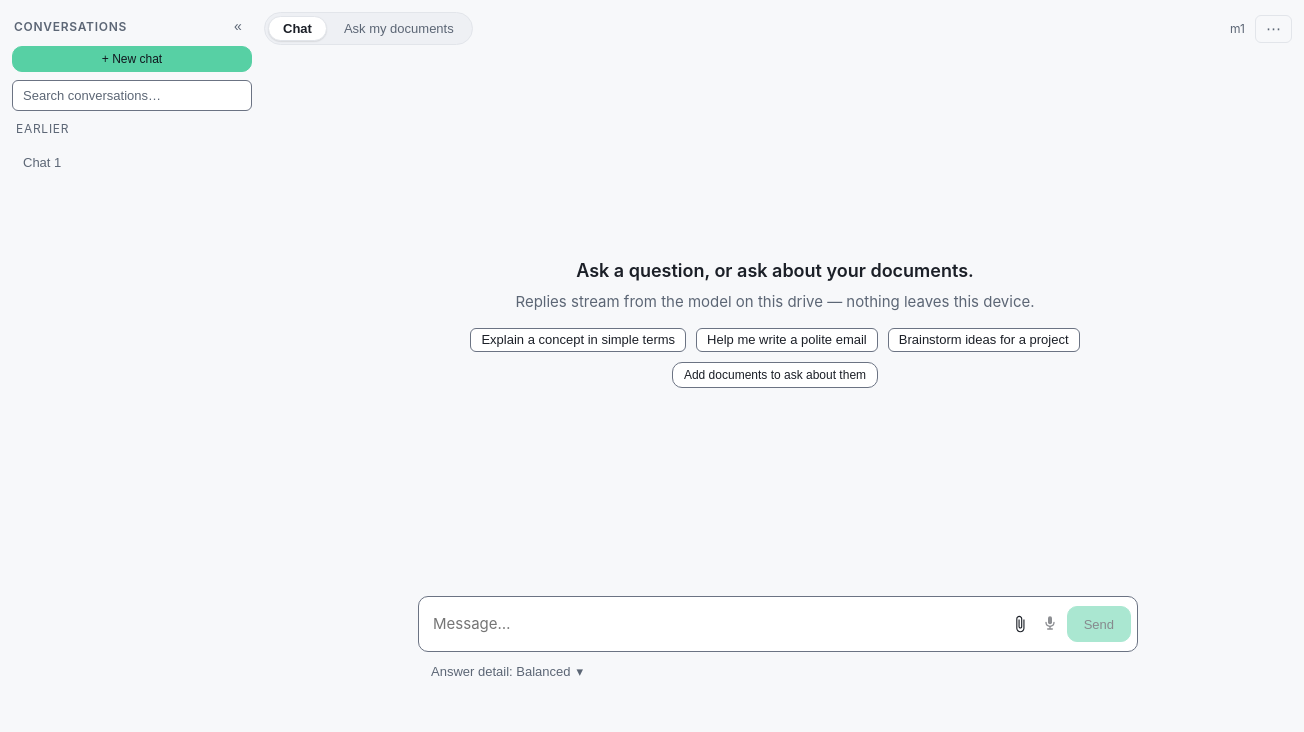
Test: ChatScreen — draft restore on pre-persist send failure (CR-1) › does NOT restore when the failed send still persisted the user turn (no duplicate)
This screenshot has width=1304, height=732.
Click the button with class "chat-conv".
click(116, 162)  # box [12,142,221,182]
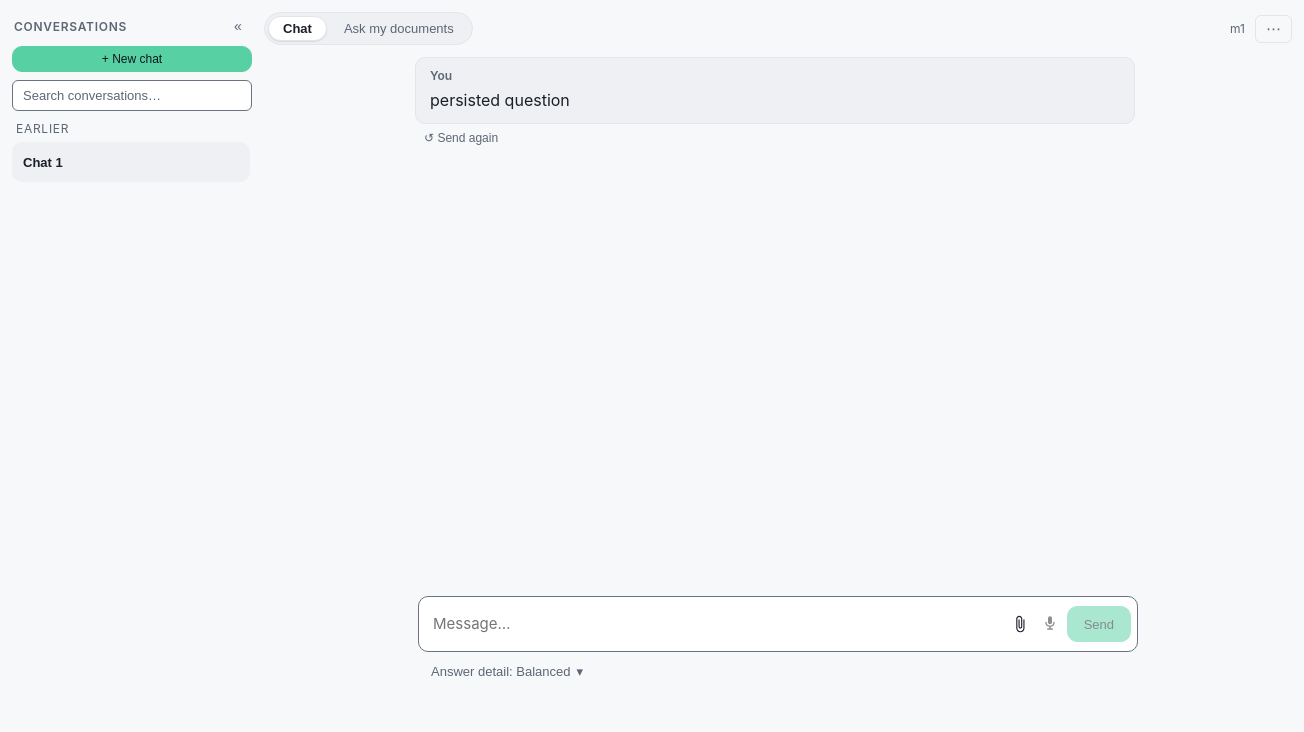
Type "persisted question" into the text box with placeholder "Message…".
click(713, 624); type("persisted question")  # box [423,603,1003,645]
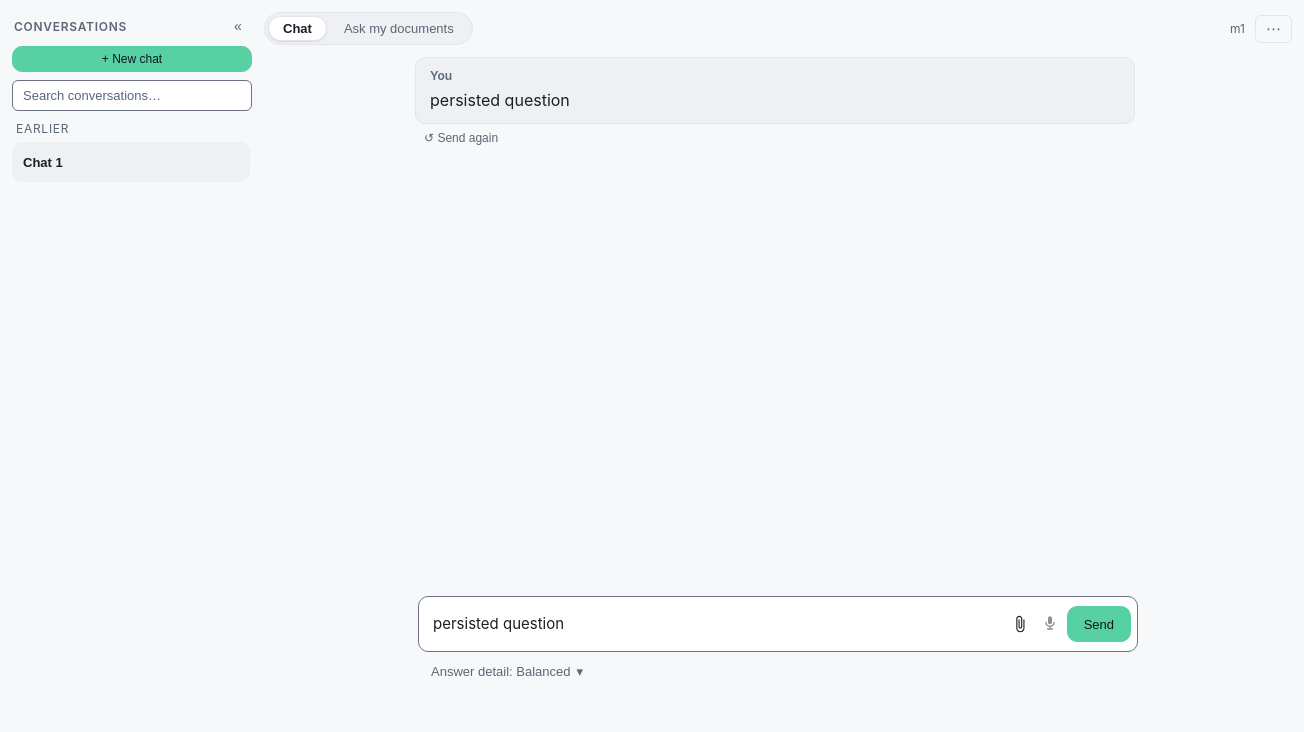
Click the button "Send".
click(1099, 624)  # box [1067,606,1131,642]
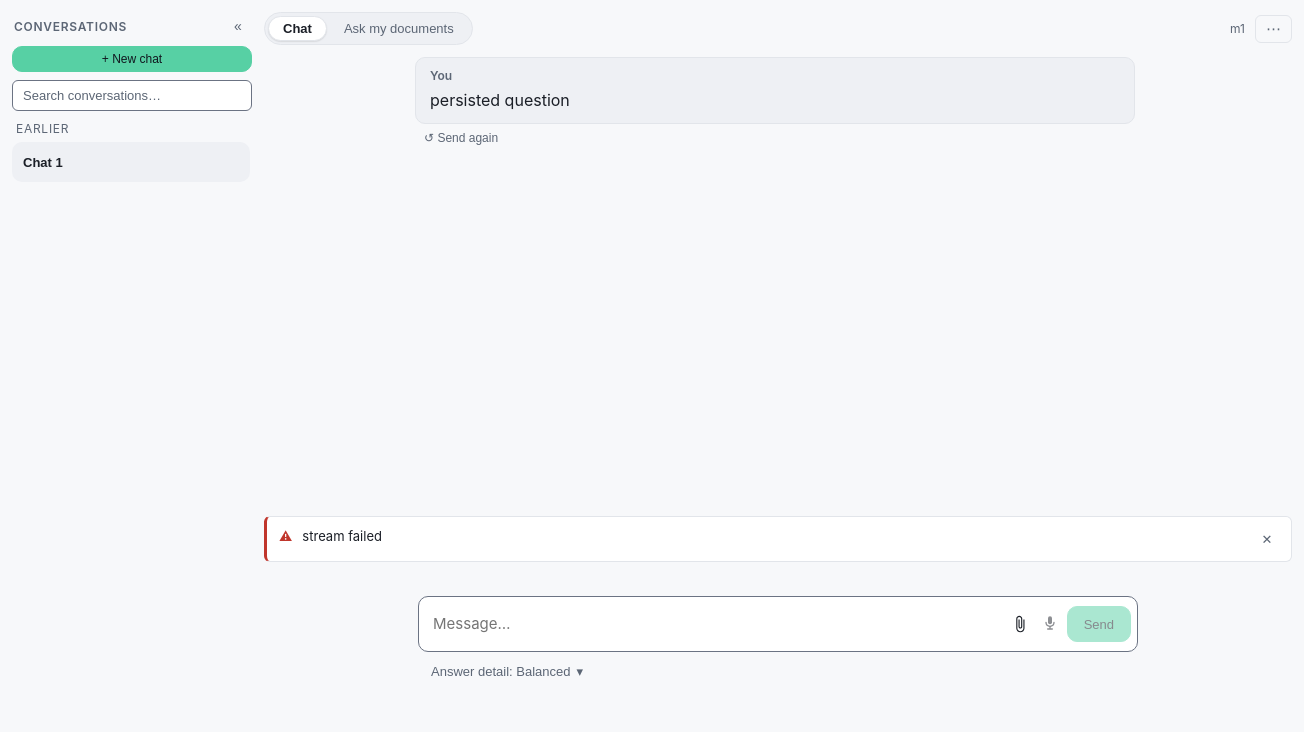
Expected: the text "persisted question" is shown once, [430,90,570,110]
Expected: the text box with placeholder "Message…" is empty, [423,603,1003,645]
